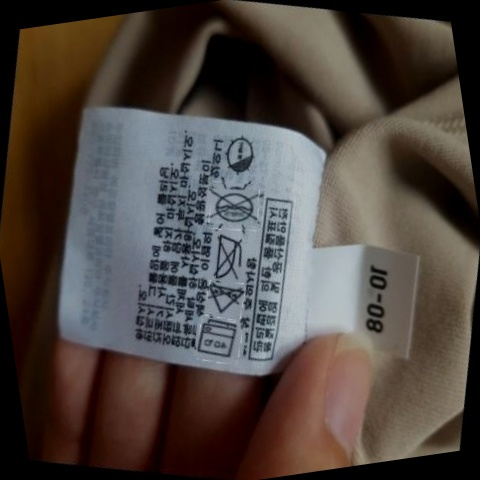40C: (193, 316, 243, 361)
DN_dry_clean: (203, 182, 260, 230)
DN_iron: (206, 228, 251, 285)
line_dry_in_shade: (220, 129, 262, 179)
non_chlorine_bleach: (203, 276, 243, 317)
